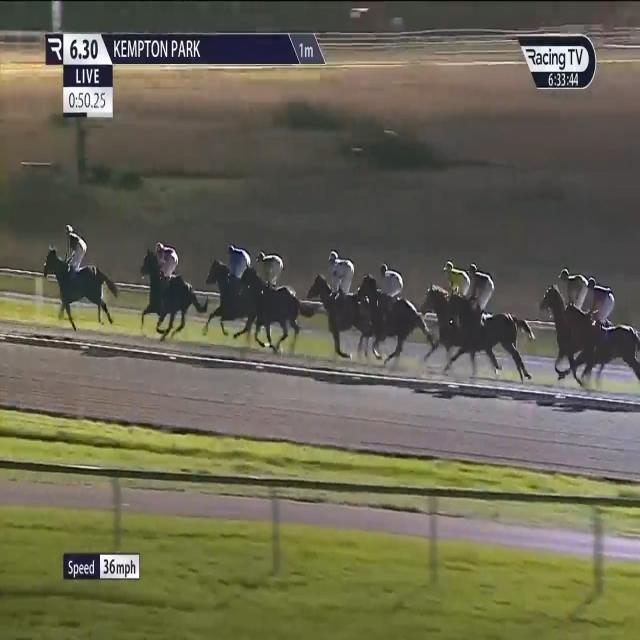horses-racing: (454, 260, 532, 372), (41, 223, 120, 327), (239, 247, 316, 348), (569, 275, 640, 379), (309, 250, 376, 360), (359, 259, 432, 358), (144, 238, 212, 338), (207, 243, 272, 337), (542, 267, 596, 374), (424, 262, 476, 361)
